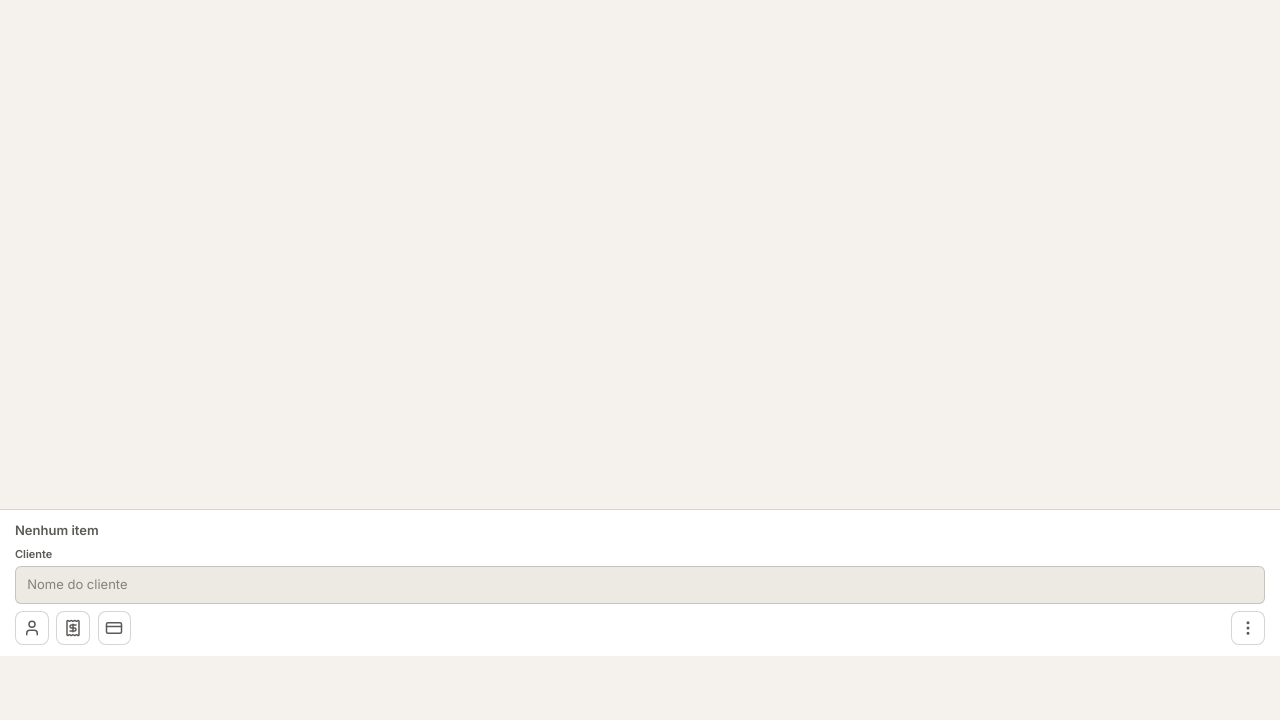
it: CartBar › impede limpar carrinho vazio
The width and height of the screenshot is (1280, 720).
Click the button named "Mais ações" at [1248, 628], box x1=1231 y1=611 x2=1265 y2=645
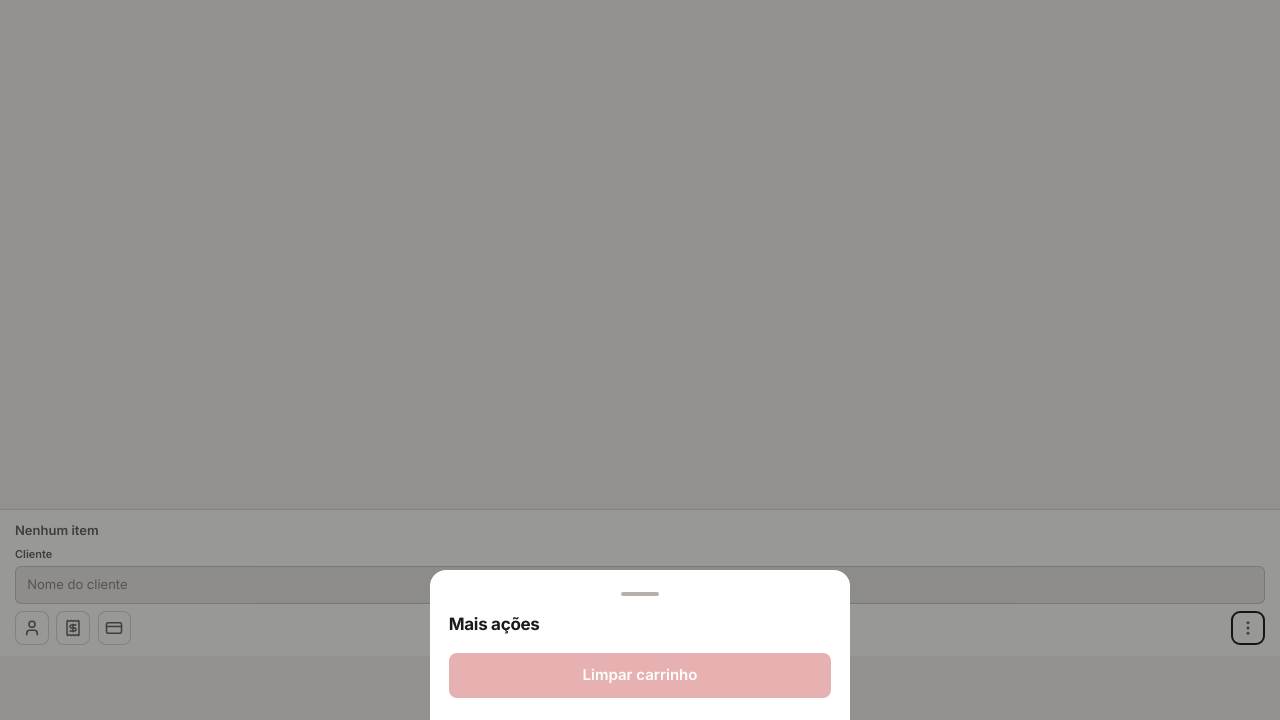
expect the button "Limpar carrinho" is disabled: met, box x1=449 y1=652 x2=831 y2=698
